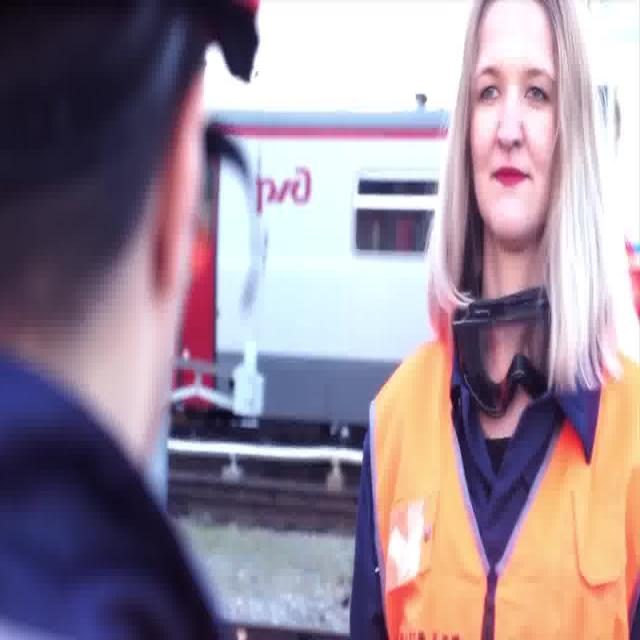class7: (453, 289, 558, 403)
glove: (365, 330, 640, 640)
